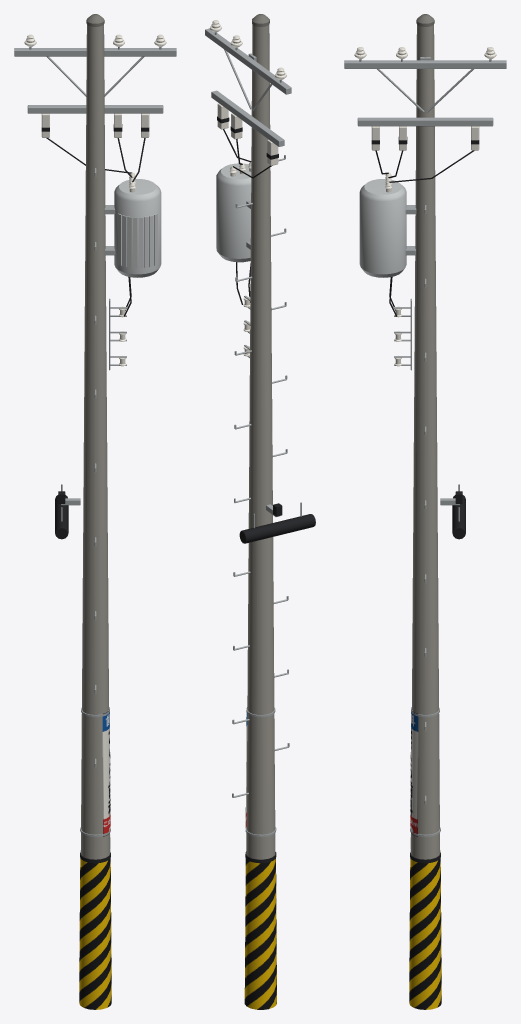
The model's file is utility_pole_transformer.fbx.
3 renders of one model, left to right at view 1: azimuth 90°, elevation 25°; view 2: azimuth 210°, elevation 25°; view 3: azimuth 270°, elevation 25°, orthographic.
Visible parts, largest first — view 1: utility_pole_transformer; view 2: utility_pole_transformer; view 3: utility_pole_transformer.
Part boxes in pixels (x1,y1,x2,y2): utility_pole_transformer: (14,14,176,1009); utility_pole_transformer: (205,14,315,1009); utility_pole_transformer: (344,14,506,1009).
Size of the model in its own units: 0.9 by 12.08 by 1.8.
Materials: 10 (2 with a texture image).
